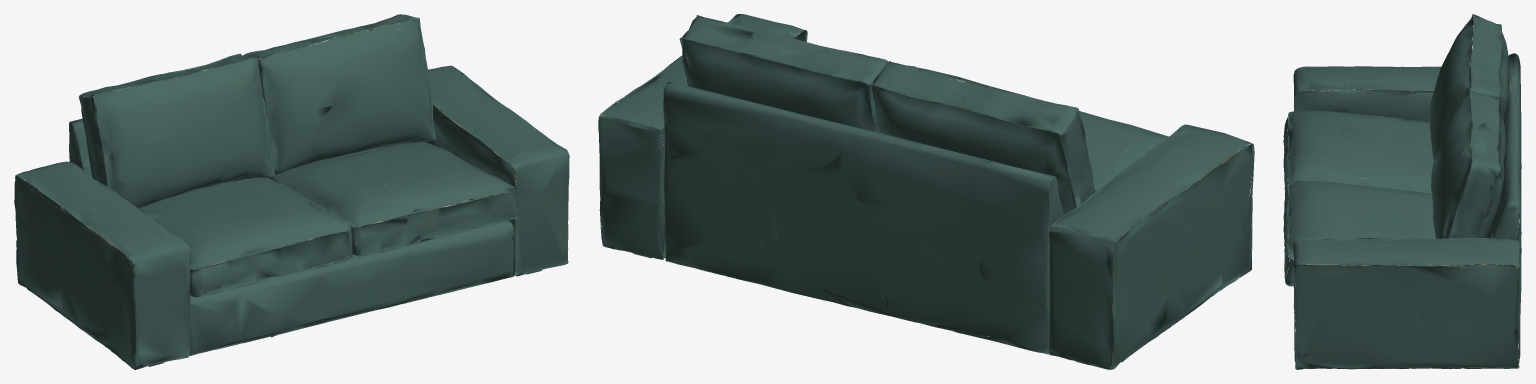
File: cover-kelinge-szaroturkusowy.glb
The picture shows the model from 3 angles, left to right: view 1: azimuth 30°, elevation 25°; view 2: azimuth 150°, elevation 25°; view 3: azimuth 270°, elevation 25°; orthographic projection. The views are drawn at different scales.
Visible parts, largest first — view 1: 49443044; view 2: 49443044; view 3: 49443044.
Part boxes in pixels (x1,y1,x2,y2): 49443044: [14, 14, 569, 369]; 49443044: [598, 14, 1254, 369]; 49443044: [1283, 14, 1521, 369].
Bounding box in the file's own units: 1.9 × 0.831 × 0.9501.
3 materials, 3 textured.
